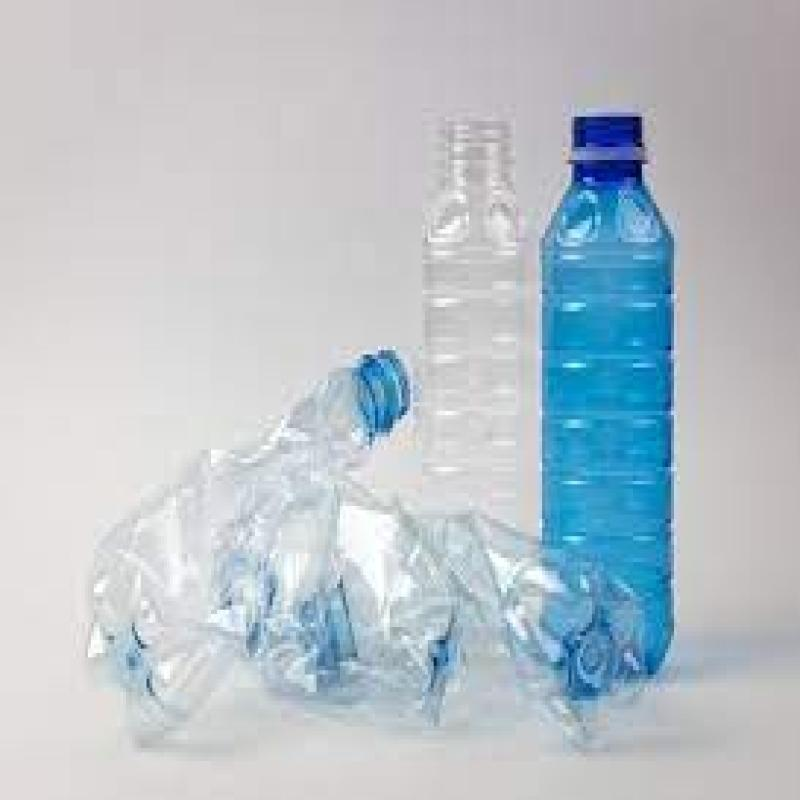botella: (90, 330, 413, 737), (540, 102, 678, 682), (419, 462, 645, 740), (225, 467, 471, 719), (414, 93, 544, 562)
